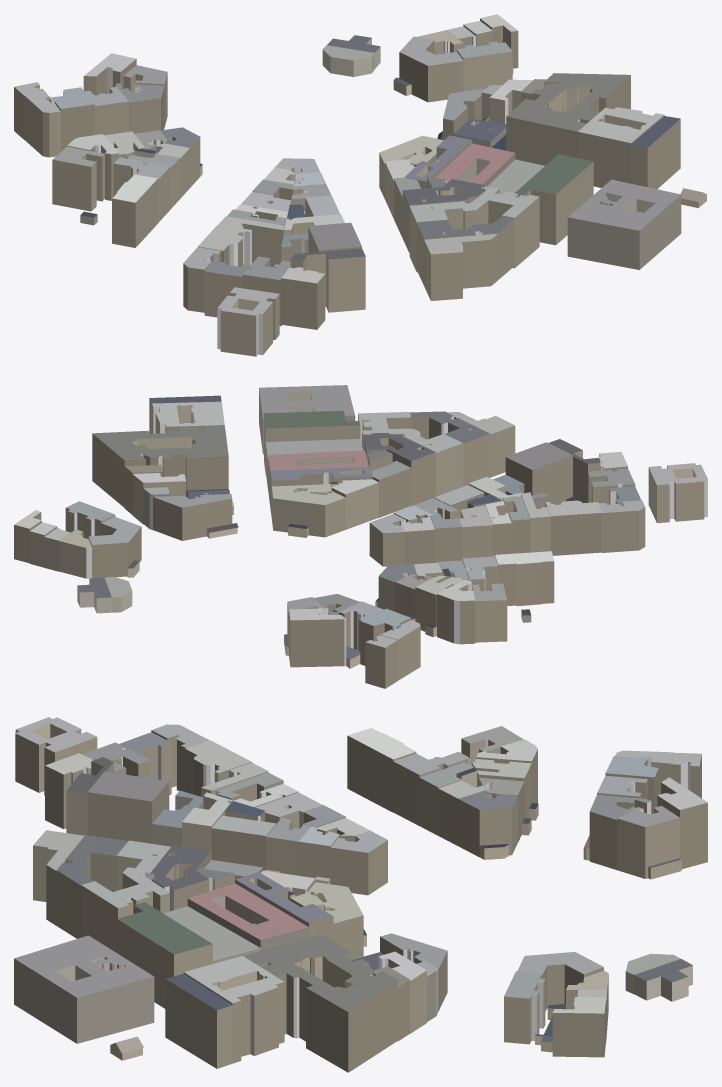
3 renders of one model, top to bottom at view 1: azimuth 30°, elevation 25°; view 2: azimuth 150°, elevation 25°; view 3: azimuth 270°, elevation 25°, orthographic. The views are drawn at different scales.
Visible parts, largest first — view 1: tuile; view 2: tuile; view 3: tuile.
Part boxes in pixels (bbox=[...]): tuile: bbox=[14, 14, 706, 356]; tuile: bbox=[14, 385, 707, 688]; tuile: bbox=[14, 717, 707, 1072].
Bounding box in the file's own units: 279 × 30.02 × 265.
